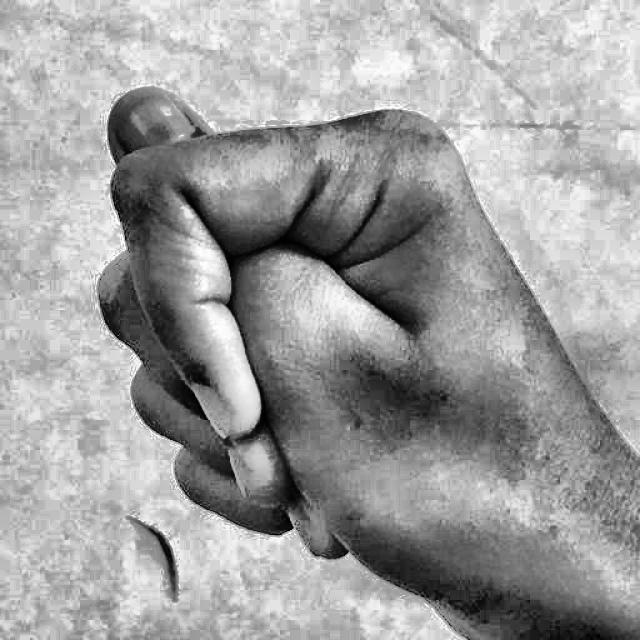Ta: (81, 31, 599, 638)
